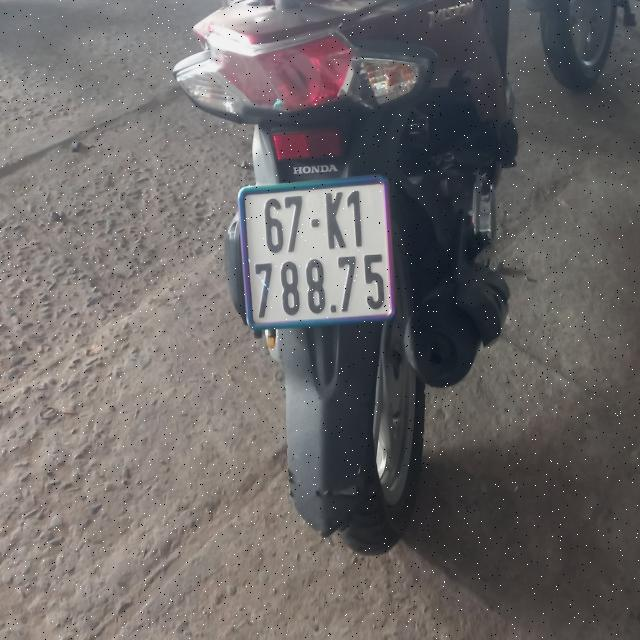1: (347, 190, 363, 248)
5: (364, 252, 386, 309)
6: (264, 198, 284, 254)
7: (337, 256, 357, 312), (255, 260, 273, 321), (285, 194, 302, 253)
8: (305, 257, 327, 313), (279, 261, 300, 315)
K: (324, 192, 346, 248)
